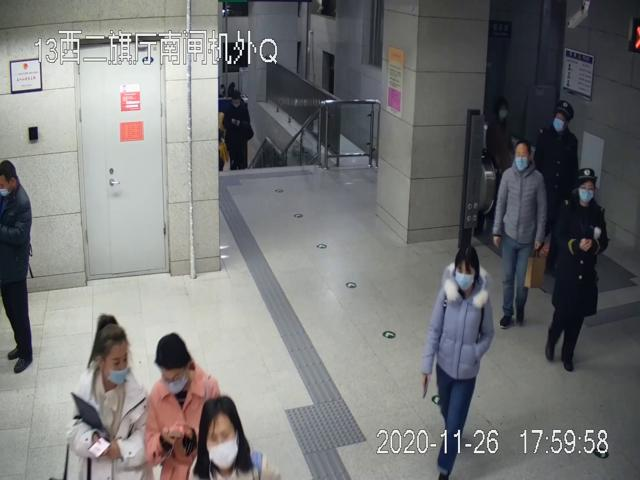person: (422, 244, 496, 480), (545, 164, 607, 372), (492, 140, 546, 328)
